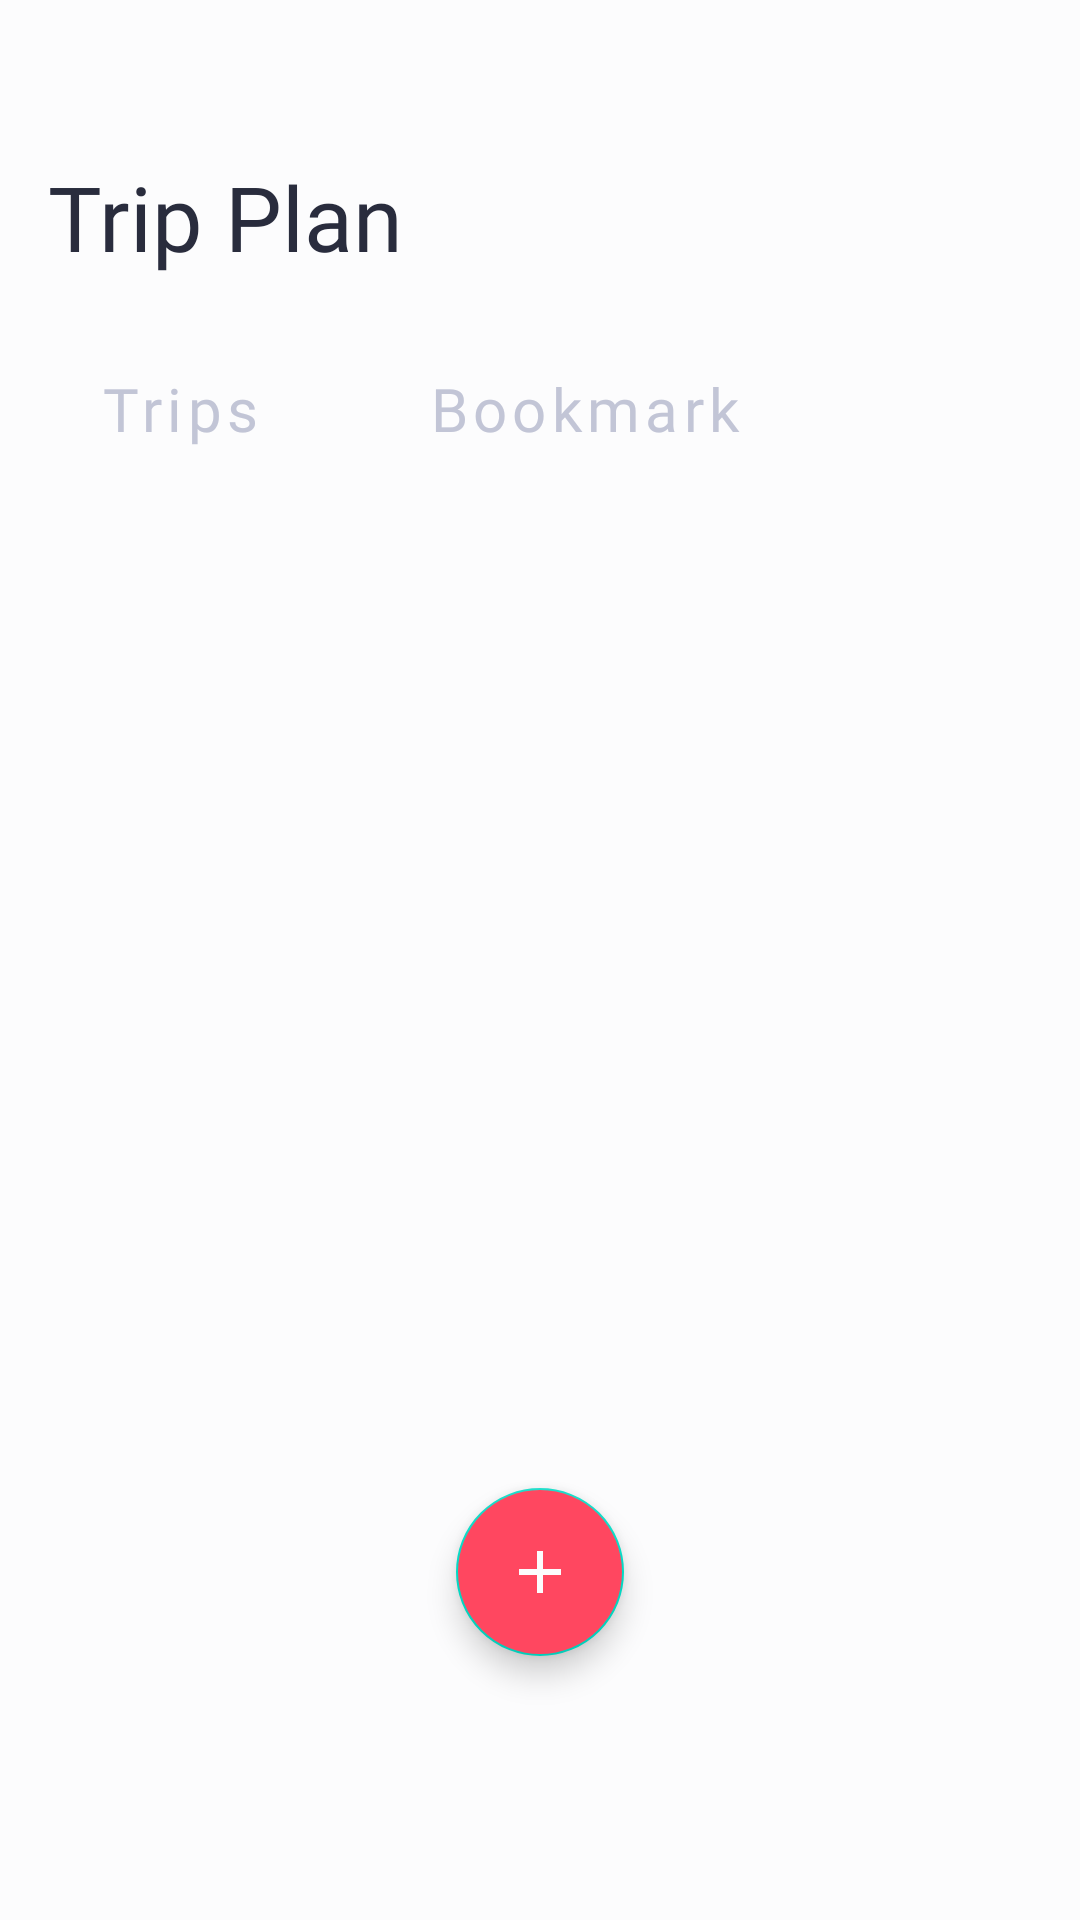

Locate icon controls on the screen. Image size 1080px x 1920px, boxes as rect(x1, y1, x2, y2).
add trip fab: rect(456, 1488, 624, 1656)
